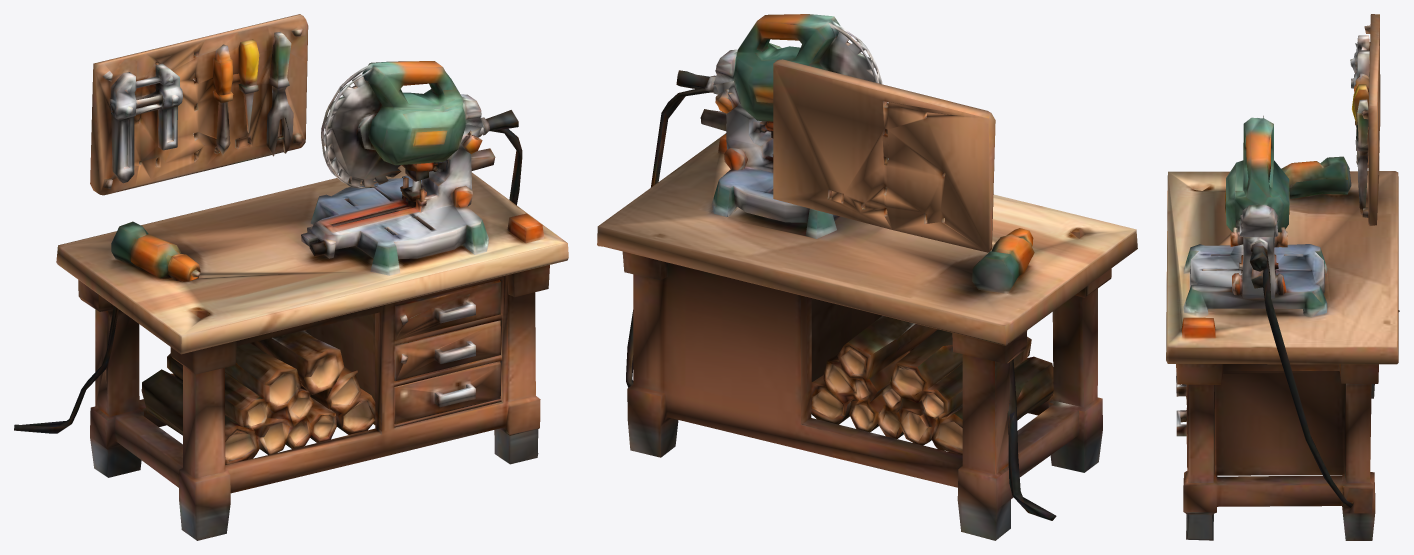
Rendered from mugongtai-3.glb.
3 renders of one model, left to right at view 1: azimuth 30°, elevation 25°; view 2: azimuth 150°, elevation 25°; view 3: azimuth 270°, elevation 25°, orthographic. The views are drawn at different scales.
Parts seen in each view (by area): view 1: node_0; view 2: node_0; view 3: node_0.
Boxes of the visible parts, <box> form: node_0: <box>14,14,568,540</box>; node_0: <box>597,14,1137,540</box>; node_0: <box>1166,14,1399,540</box>.
Size of the model in its own units: 0.9255 by 0.8078 by 0.4564.
1 material, 1 textured.
